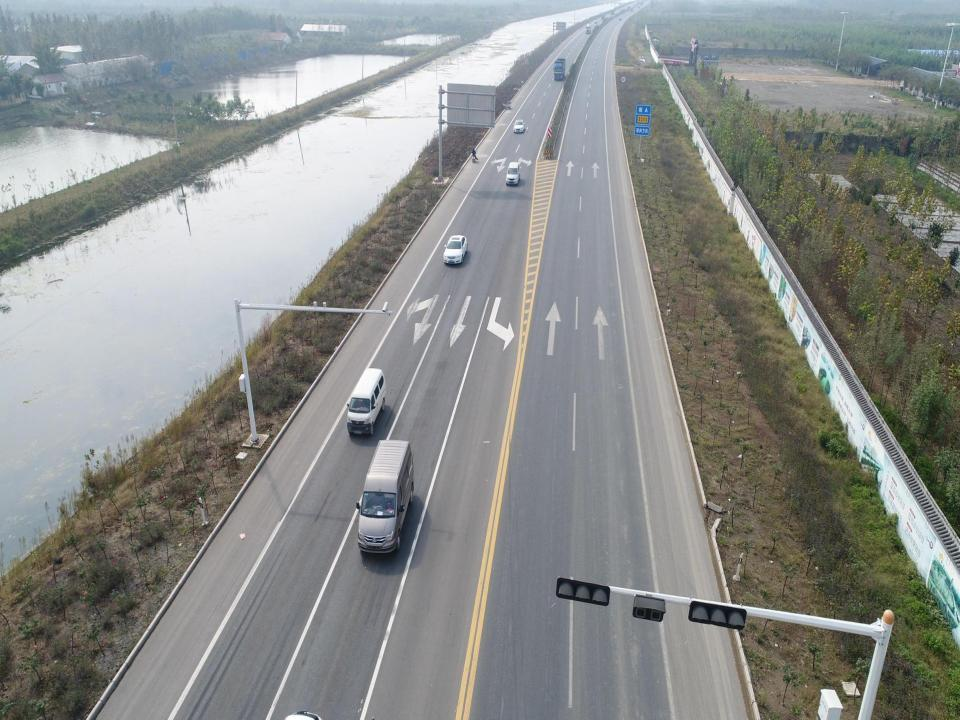car: (443, 236, 468, 265), (506, 162, 521, 187), (514, 119, 524, 133)
truck: (553, 57, 565, 81)
van: (356, 439, 414, 556), (346, 368, 387, 435), (586, 23, 591, 34)
